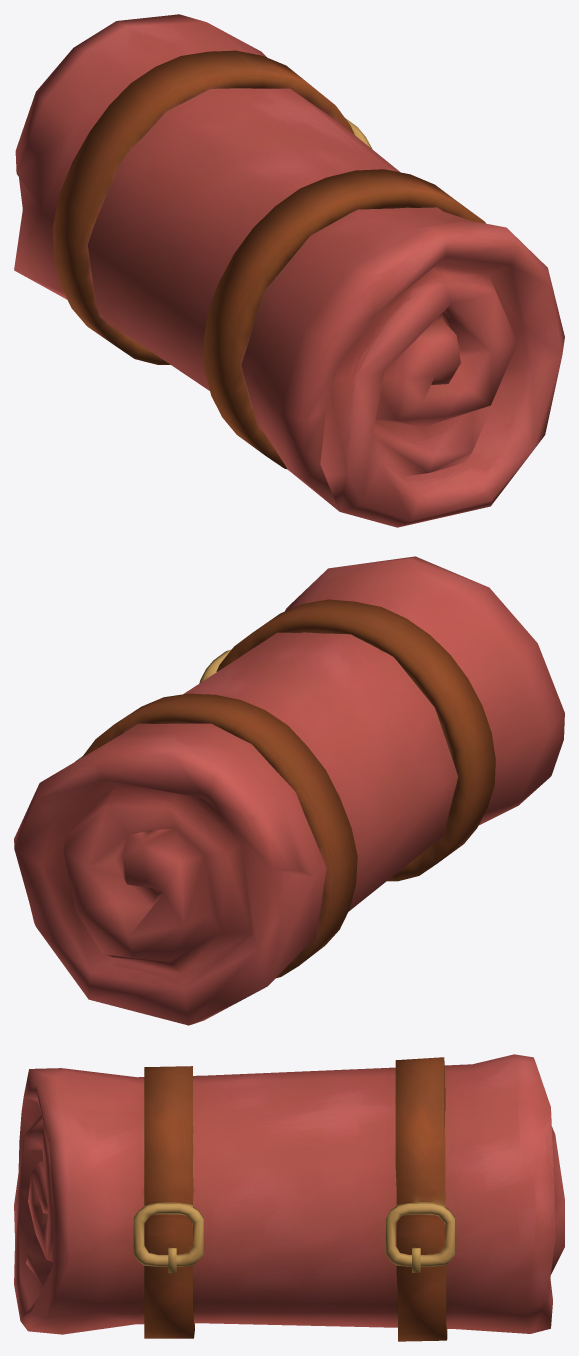
Rendered from bedroll.glb.
3 renders of one model, top to bottom at view 1: azimuth 30°, elevation 25°; view 2: azimuth 150°, elevation 25°; view 3: azimuth 270°, elevation 25°, orthographic. The views are drawn at different scales.
Visible parts, largest first — view 1: tripo_node_c231d8e1-944b-4fbd-8cfb-a92e2f578c29; view 2: tripo_node_c231d8e1-944b-4fbd-8cfb-a92e2f578c29; view 3: tripo_node_c231d8e1-944b-4fbd-8cfb-a92e2f578c29.
Part boxes in pixels (x1,y1,x2,y2): tripo_node_c231d8e1-944b-4fbd-8cfb-a92e2f578c29: [14, 14, 564, 527]; tripo_node_c231d8e1-944b-4fbd-8cfb-a92e2f578c29: [14, 556, 564, 1025]; tripo_node_c231d8e1-944b-4fbd-8cfb-a92e2f578c29: [14, 1054, 564, 1341].
Bounding box in the file's own units: 0.541 × 0.4824 × 0.998.
1 material, 1 textured.
